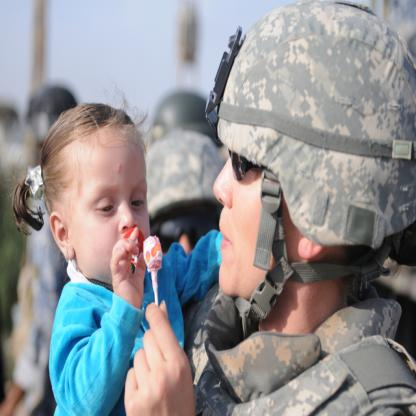Helmet: (203, 0, 416, 345), (144, 131, 224, 232), (145, 88, 224, 148)
